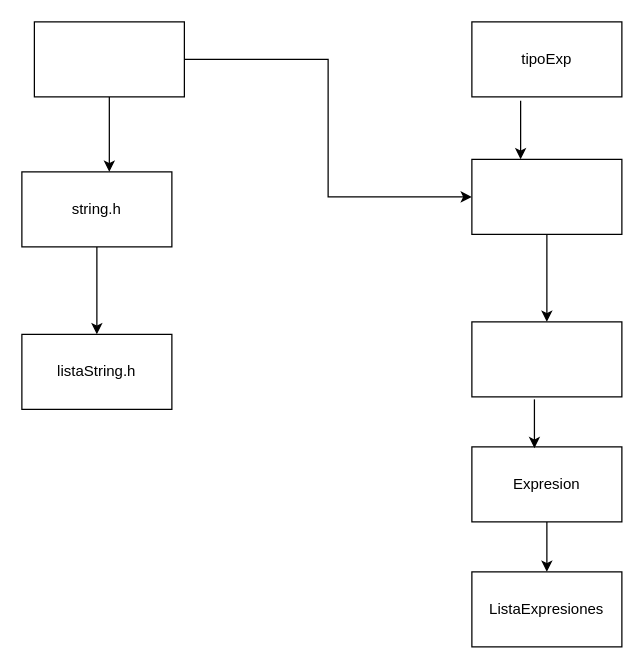
The diagram is 644 pixels wide and 669 high, and some of its shapes have lost their labels. Each missing label, with the centre of its shape:
"arbolDeExpresion" belongs at point (546, 359).
"boolean.h" belongs at point (108, 59).
"tipoNodo" belongs at point (546, 196).
